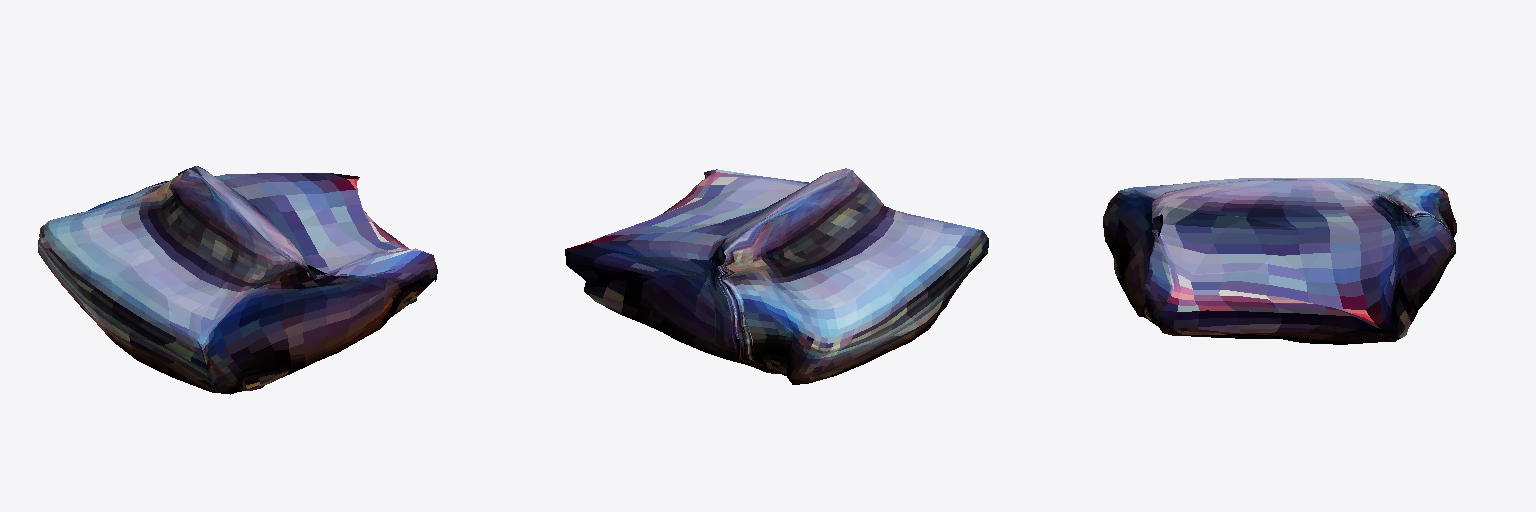
3 renders of one model, left to right at view 1: azimuth 30°, elevation 25°; view 2: azimuth 150°, elevation 25°; view 3: azimuth 270°, elevation 25°, orthographic.
Bounding box in the file's own units: 1 × 0.3973 × 0.9997.
1 materials, 1 textured.